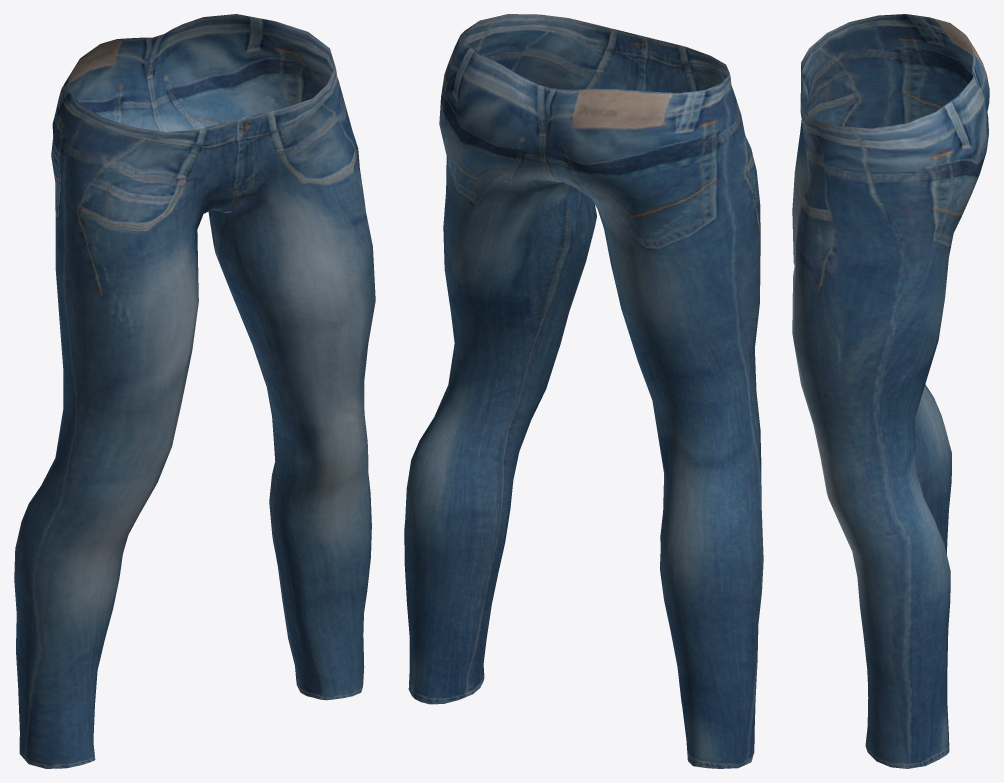
Rendered from pants.fbx.
The picture shows the model from 3 angles, left to right: view 1: azimuth 30°, elevation 25°; view 2: azimuth 150°, elevation 25°; view 3: azimuth 270°, elevation 25°; orthographic projection. The views are drawn at different scales.
Visible parts, largest first — view 1: girlstanding_female_casualsuit01; view 2: girlstanding_female_casualsuit01; view 3: girlstanding_female_casualsuit01.
Part boxes in pixels (bbox=[...]): girlstanding_female_casualsuit01: bbox=[14, 14, 375, 768]; girlstanding_female_casualsuit01: bbox=[404, 14, 763, 768]; girlstanding_female_casualsuit01: bbox=[792, 14, 989, 768].
Size of the model in its own units: 174 by 325 by 92.08.
